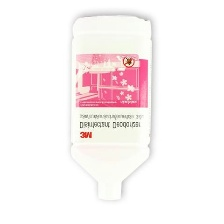cleaning_solution: (65, 12, 157, 203)
